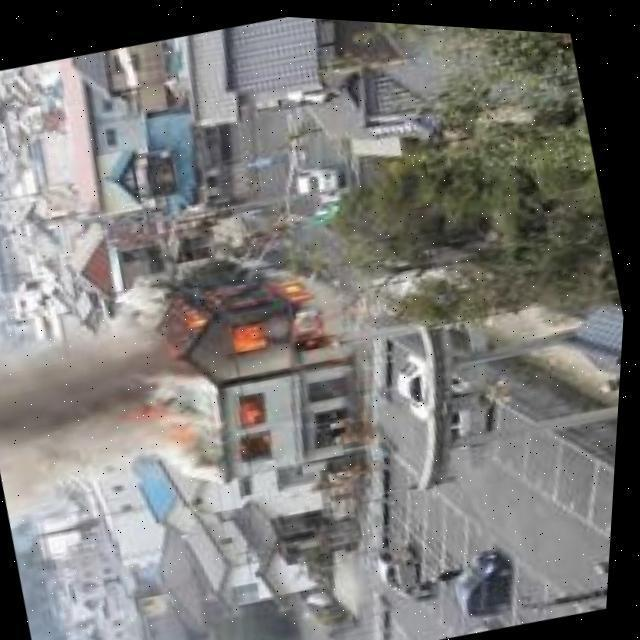fire: (181, 250, 332, 374), (244, 387, 276, 425)
